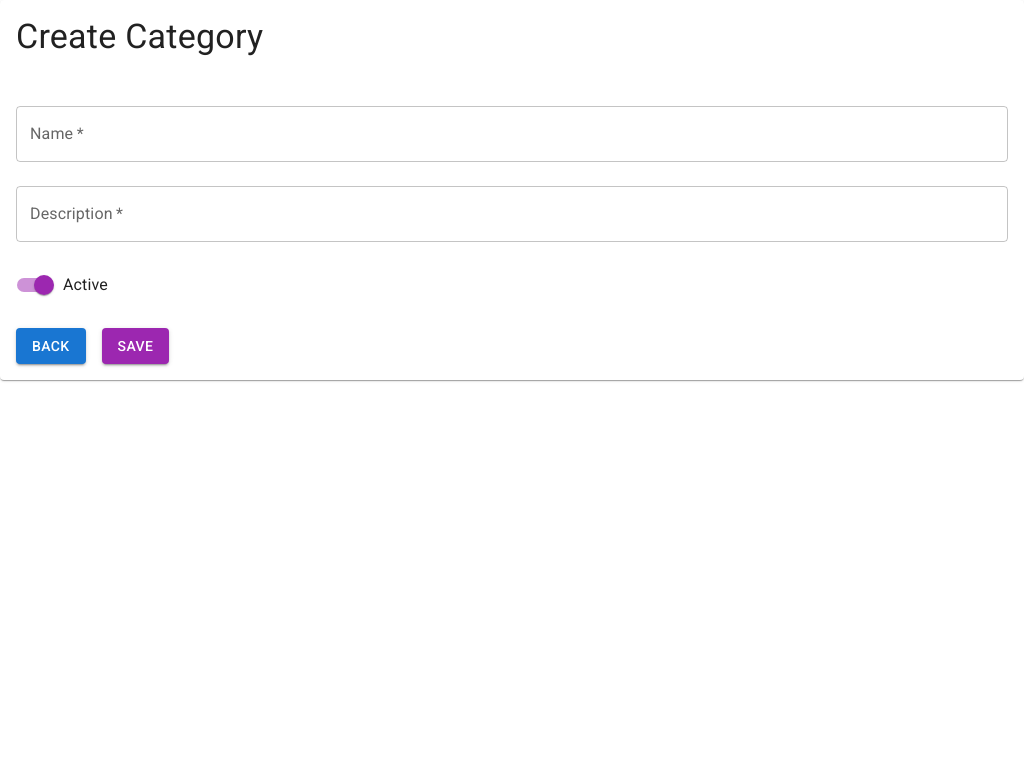
Scenario: CreateCategory › should handle submit
The width and height of the screenshot is (1024, 768).
Type "test" into the field with test id "name" at point(512, 134), box [16,106,1008,162]
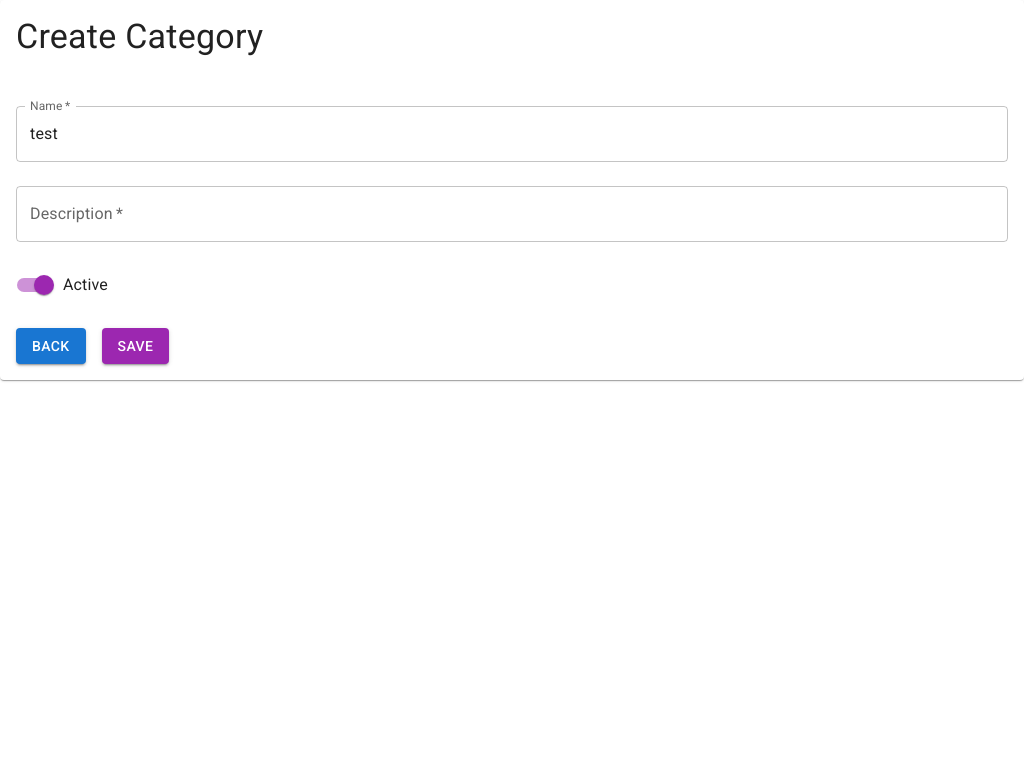
Type "test desc" into the field with test id "description" at point(512, 214), box [16,186,1008,242]
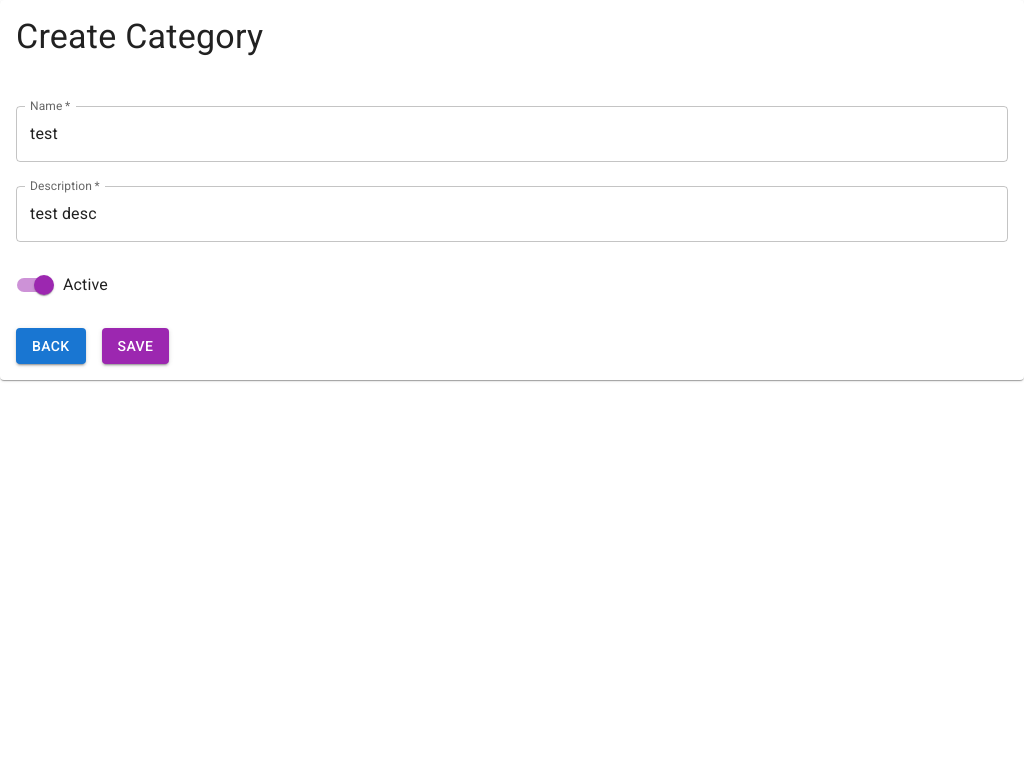
Click the element with test id "is_active" at point(44, 285), box [34,275,54,295]
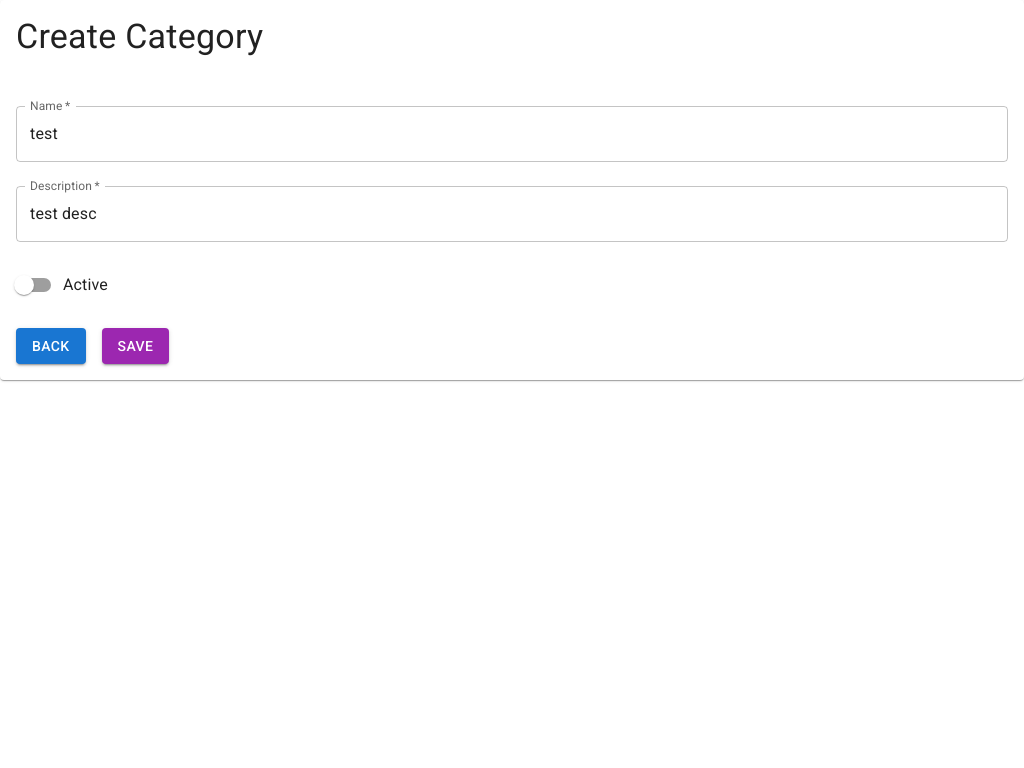
Click the button "Save" at point(136, 346), box [102,328,169,364]
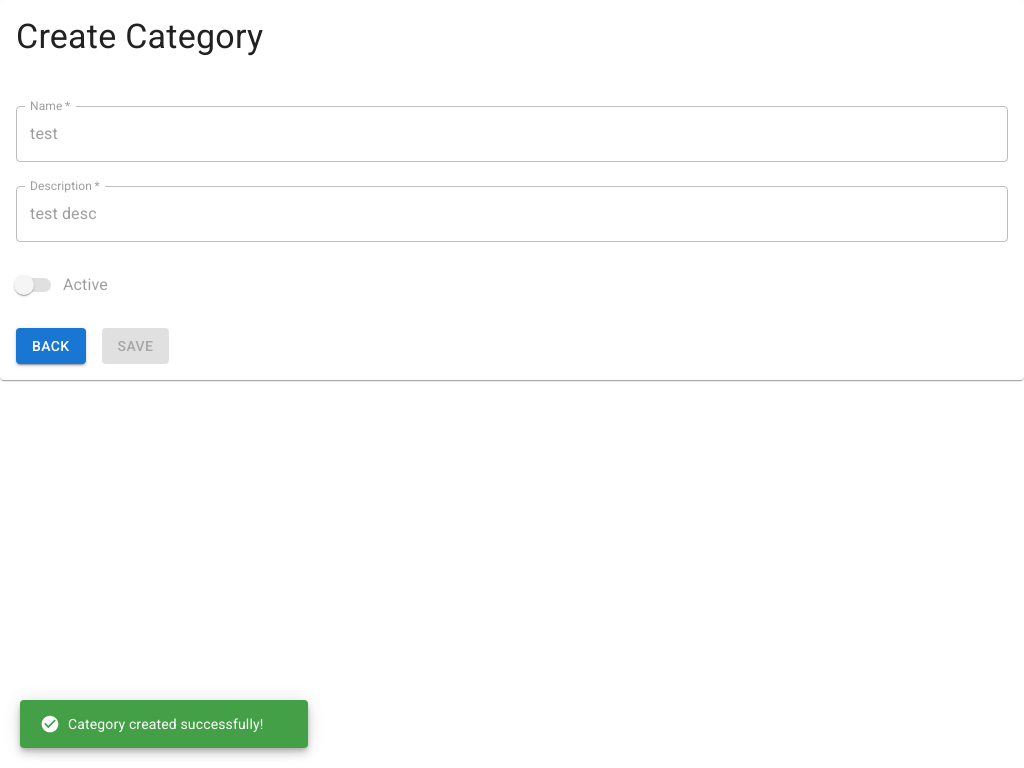
Expected: the text "Category created successfully!" is shown, [40,714,264,734]
